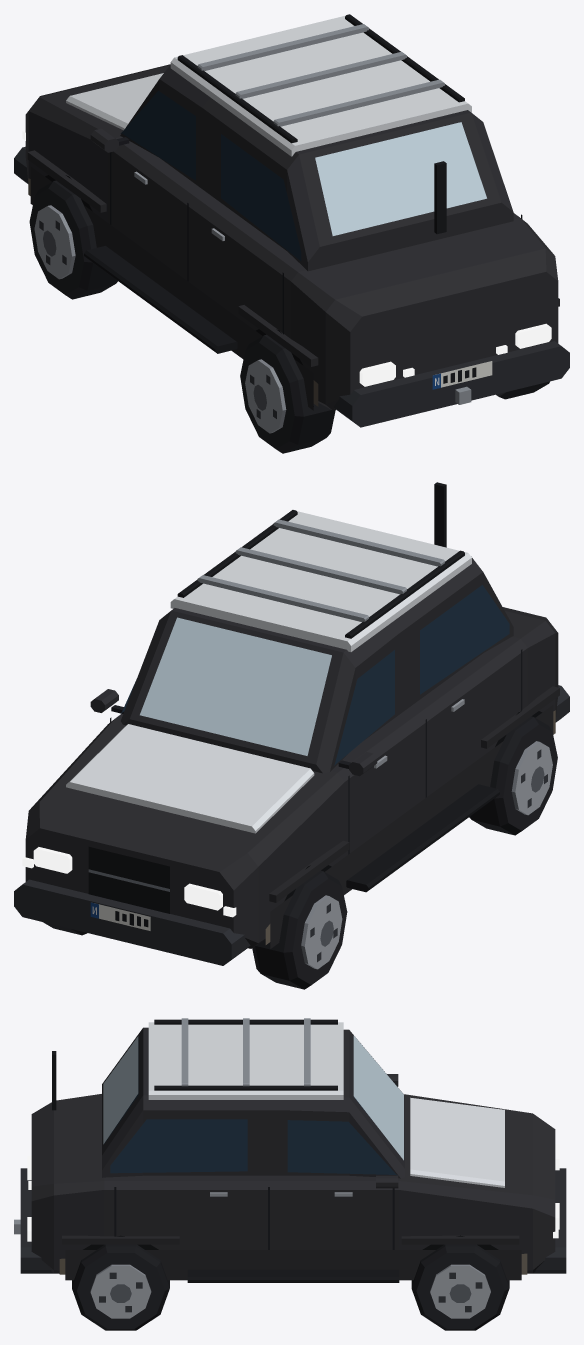
The model's file is suv.glb.
3 views of the same model, one above another, from view 1: azimuth 30°, elevation 25°; view 2: azimuth 150°, elevation 25°; view 3: azimuth 270°, elevation 25° (orthographic). The views are drawn at different scales.
Visible parts, largest first — view 1: body.003, wheel_RL.003, wheel_FL.003; view 2: body.003, wheel_FL.003, wheel_RL.003; view 3: body.003, wheel_FR.003, wheel_RR.003.
Boxes of the visible parts, bbox=[...] form: body.003: bbox=[14, 14, 569, 427]; wheel_RL.003: bbox=[240, 334, 335, 453]; wheel_FL.003: bbox=[29, 180, 117, 299]; body.003: bbox=[14, 482, 569, 965]; wheel_FL.003: bbox=[252, 870, 347, 989]; wheel_RL.003: bbox=[469, 716, 557, 835]; body.003: bbox=[14, 1018, 566, 1282]; wheel_FR.003: bbox=[411, 1244, 509, 1330]; wheel_RR.003: bbox=[72, 1244, 169, 1330].
Bounding box in the file's own units: 2.38 × 2.29 × 4.99.
